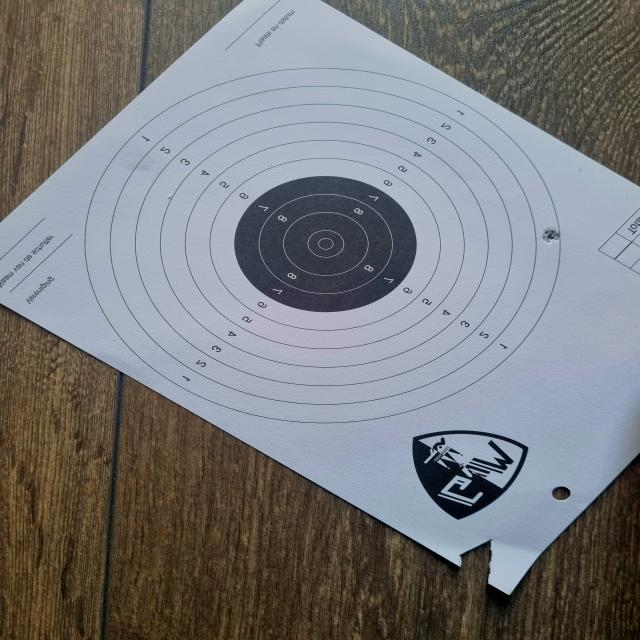1: (541, 228, 560, 243)
Target: (80, 66, 559, 424)
black_contour: (234, 176, 417, 313)
